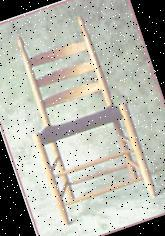Silla: (0, 12, 155, 229)
